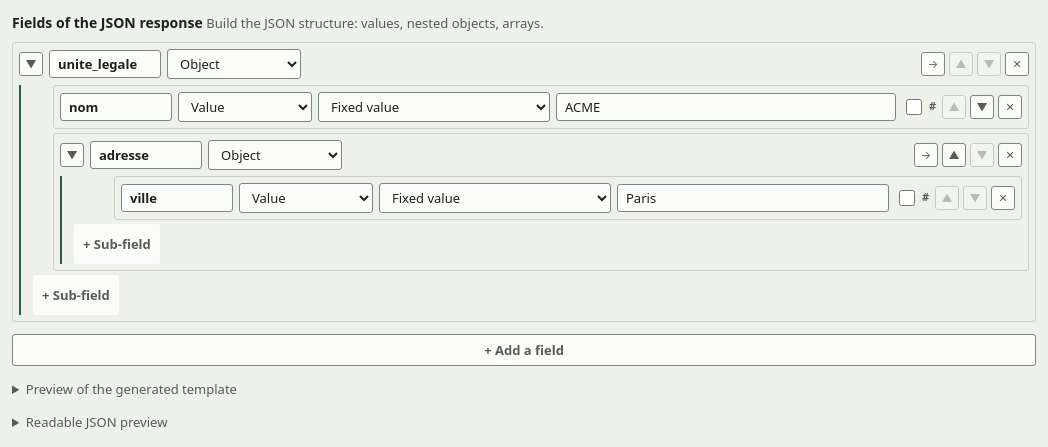
Scenario: JsonResponseBuilder — breadcrumb de navigation › permet de remonter en cliquant sur "racine" dans le breadcrumb
The image size is (1048, 447).
Click the button named "Go into unite_legale" at x=933, y=64, box left=921, top=52, right=945, bottom=76
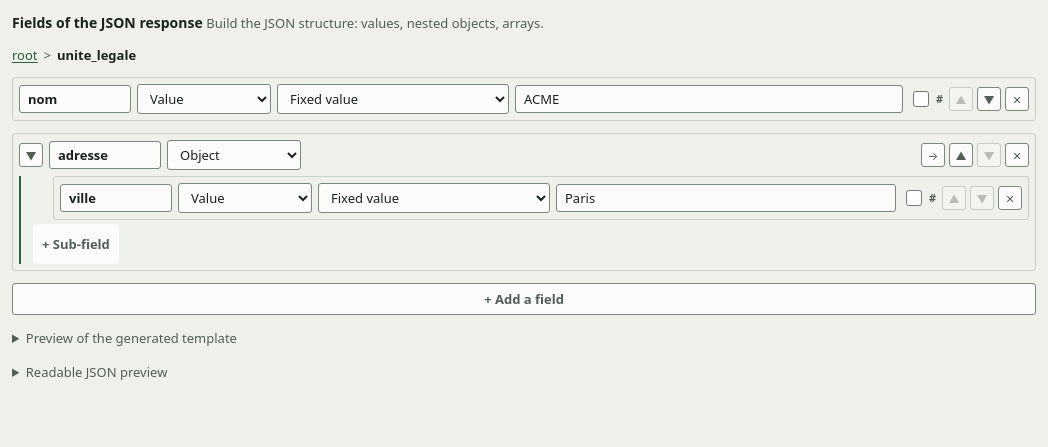
Click the button named "Go into adresse" at x=933, y=155, box left=921, top=143, right=945, bottom=167
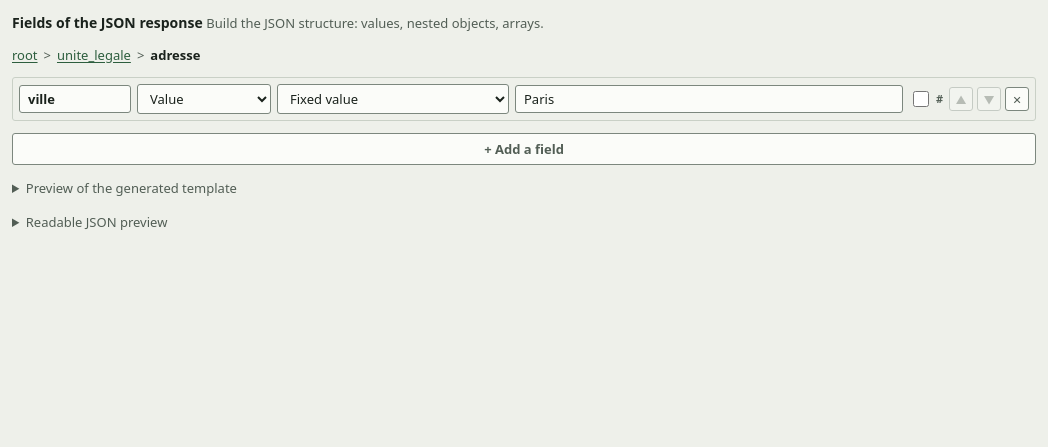
Result: the field showing "ville" is shown at left=19, top=85, right=131, bottom=113
Click the button "root" at x=25, y=55, box left=12, top=46, right=38, bottom=65
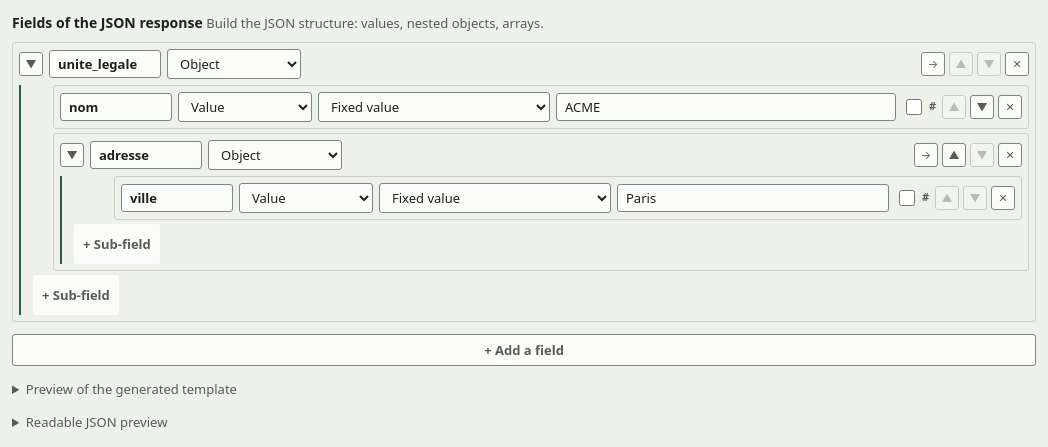
Result: the 1st field showing "unite_legale" is shown at left=49, top=50, right=161, bottom=78
